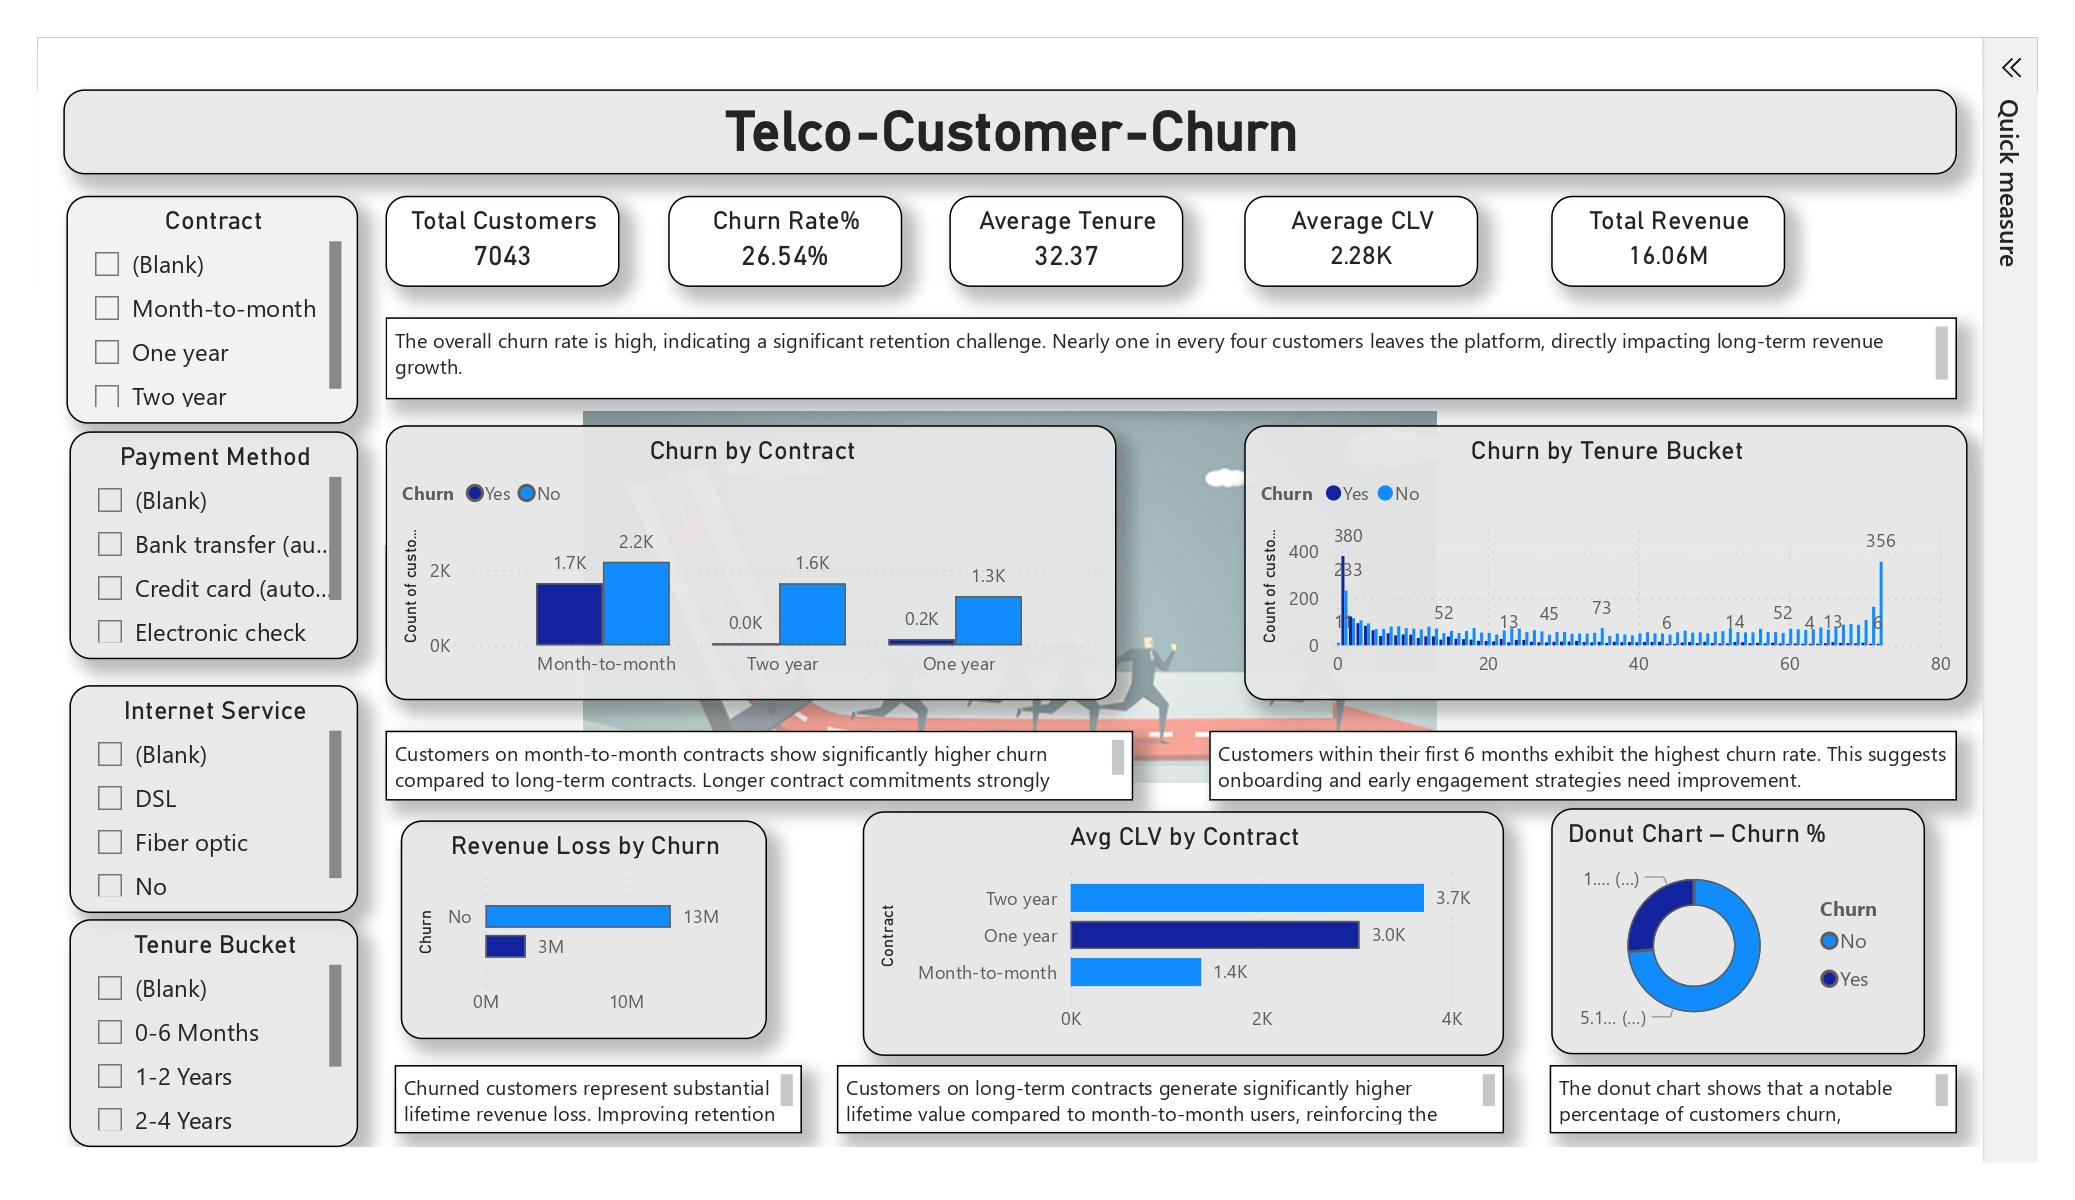

Layout of this report page (visuals, bound fields, positions):
{"tool":"powerbi","page":{"name":"Telco Customer Churn Dashboard","canvas":[1280,720],"ordinal":2},"visuals":[{"type":"textbox","title":"Telco-Customer-Churn","box":[17.1,24.2,1245.8,55.6],"z":0},{"type":"card","title":"Total Customers","fields":{"Values":["Table1.Total Customers"]},"box":[229.5,94.1,153.9,59.9],"z":1000},{"type":"card","title":"Churn Rate%","fields":{"Values":["Table1.Churn Rate %"]},"box":[414.8,94.1,153.9,59.9],"z":2000},{"type":"card","title":"Average Tenure","fields":{"Values":["Table1.Avg Tenure"]},"box":[600.1,94.1,153.9,59.9],"z":3000},{"type":"card","title":"Average CLV","fields":{"Values":["Table1.Avg CLV"]},"box":[793.9,94.1,153.9,59.9],"z":4000},{"type":"card","title":"Total Revenue","fields":{"Values":["Table1.Total Revenue"]},"box":[996.3,94.1,153.9,59.9],"z":5000},{"type":"clusteredColumnChart","title":"Churn by Contract ","fields":{"Category":["Table1.Contract"],"Series":["Table1.Churn"],"Y":["CountNonNull(Table1.customerID)"]},"box":[229.5,245.2,480.4,181],"z":6000},{"type":"textbox","box":[229.5,173.9,1033.4,54.2],"z":7000},{"type":"clusteredColumnChart","title":"Churn by Tenure Bucket","fields":{"Series":["Table1.Churn"],"Category":["Table1.tenure"],"Y":["CountNonNull(Table1.customerID)"]},"box":[793.9,245.2,476.1,181],"z":8000},{"type":"barChart","title":"Revenue Loss by Churn","fields":{"Category":["Table1.Churn"],"Y":["Sum(Table1.Customer Life Time Value)"]},"box":[239.5,504.6,240.9,144],"z":9000},{"type":"textbox","box":[17,174,212,150],"z":10000},{"type":"textbox","box":[229.5,446.1,491.8,45.6],"z":11000},{"type":"textbox","box":[771.1,446.1,491.8,45.6],"z":12000},{"type":"barChart","title":"Avg CLV by Contract","fields":{"Y":["Avg(Table1.Customer Life Time Value)"],"Category":["Table1.Contract"]},"box":[543.1,498.9,421.9,161.1],"z":13000},{"type":"textbox","box":[235.2,665.7,268,45.6],"z":14000},{"type":"donutChart","title":"Donut Chart – Churn %","fields":{"Category":["Table1.Churn"],"Y":["CountNonNull(Table1.customerID)"]},"box":[996.3,497.5,245.2,161.1],"z":15000},{"type":"textbox","box":[526,665.7,439,45.6],"z":16000},{"type":"textbox","box":[994.9,665.7,268,45.6],"z":17000},{"type":"slicer","title":"Contract","fields":{"Values":["Table1.Contract"]},"box":[18.5,94.1,192.4,149.7],"z":18000},{"type":"slicer","title":"Payment Method","fields":{"Values":["Table1.PaymentMethod"]},"box":[21.4,249.4,189.6,149.7],"z":18001},{"type":"slicer","title":"Internet Service","fields":{"Values":["Table1.InternetService"]},"box":[21.4,416.2,189.6,149.7],"z":18002},{"type":"slicer","title":"Tenure Bucket","fields":{"Values":["Table1.Tenure Bucket"]},"box":[21.4,570.2,189.6,149.7],"z":18003}]}

Visuals, with their boxes in screenshot pixels (x1, y1, x2, y2):
"Telco-Customer-Churn" textbox: x1=53, y1=81, x2=1974, y2=166
"Total Customers" card: x1=381, y1=188, x2=618, y2=281
"Churn Rate%" card: x1=667, y1=188, x2=904, y2=281
"Average Tenure" card: x1=952, y1=188, x2=1190, y2=281
"Average CLV" card: x1=1251, y1=188, x2=1489, y2=281
"Total Revenue" card: x1=1563, y1=188, x2=1801, y2=281
"Churn by Contract " clusteredColumnChart: x1=381, y1=421, x2=1122, y2=700
textbox: x1=381, y1=311, x2=1974, y2=395
"Churn by Tenure Bucket" clusteredColumnChart: x1=1251, y1=421, x2=1985, y2=700
"Revenue Loss by Churn" barChart: x1=396, y1=821, x2=768, y2=1043
textbox: x1=53, y1=312, x2=380, y2=543
textbox: x1=381, y1=731, x2=1139, y2=801
textbox: x1=1216, y1=731, x2=1974, y2=801
"Avg CLV by Contract" barChart: x1=864, y1=813, x2=1515, y2=1061
textbox: x1=390, y1=1070, x2=803, y2=1140
"Donut Chart – Churn %" donutChart: x1=1563, y1=810, x2=1941, y2=1059
textbox: x1=838, y1=1070, x2=1515, y2=1140
textbox: x1=1561, y1=1070, x2=1974, y2=1140
"Contract" slicer: x1=56, y1=188, x2=352, y2=419
"Payment Method" slicer: x1=60, y1=428, x2=352, y2=659
"Internet Service" slicer: x1=60, y1=685, x2=352, y2=916
"Tenure Bucket" slicer: x1=60, y1=922, x2=352, y2=1153
